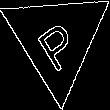P_NW: (31, 8, 84, 71)
